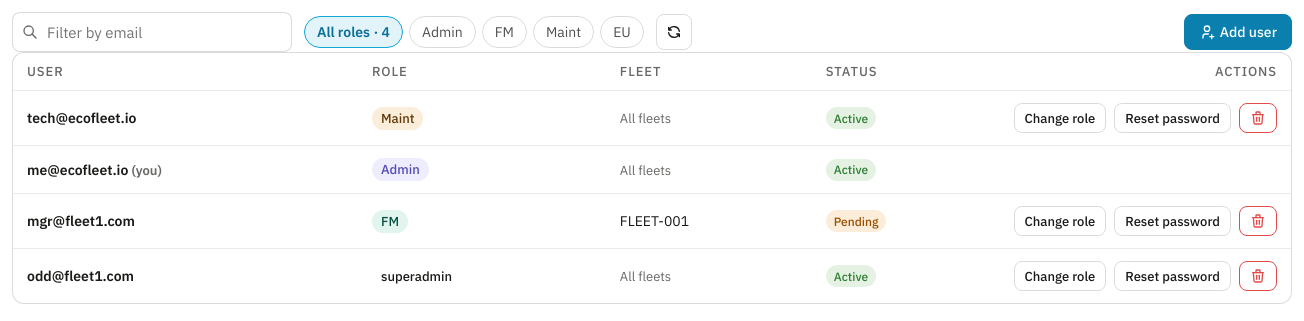
Test: UsersPage table › search narrows rows and role chips filter by role
Expected: the text "mgr@fleet1.com" is shown, [13,194,358,248]
Type "tech" into the search field labelled "Filter by email".
click(152, 32); type("tech")  # box [12,12,292,52]
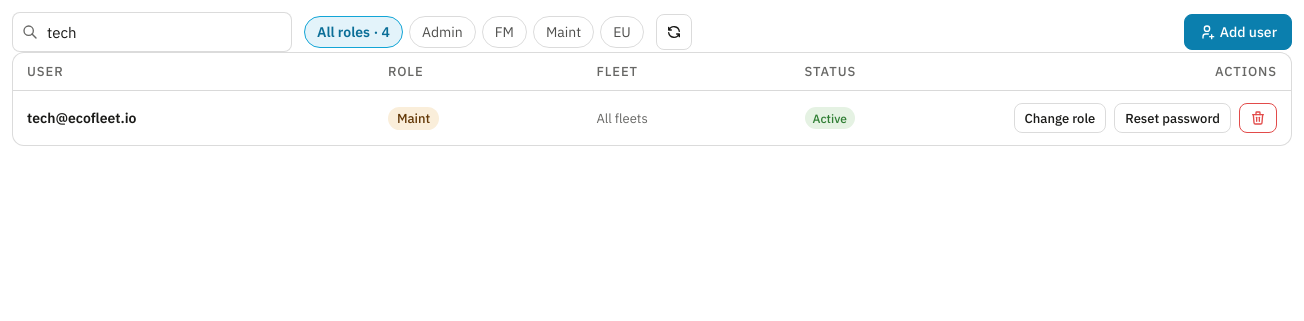
Expected: the text "tech@ecofleet.io" is shown, [13,90,374,145]
Result: the text "mgr@fleet1.com" is gone
Clear the search field named "Filter by email" at (152, 32), box [12,12,292,52]
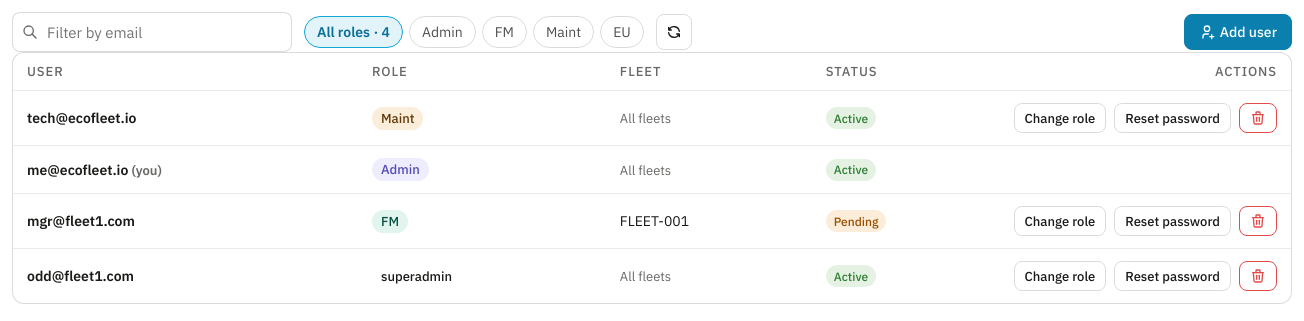
Click the button "FM".
click(504, 32)  # box [482,16,527,48]
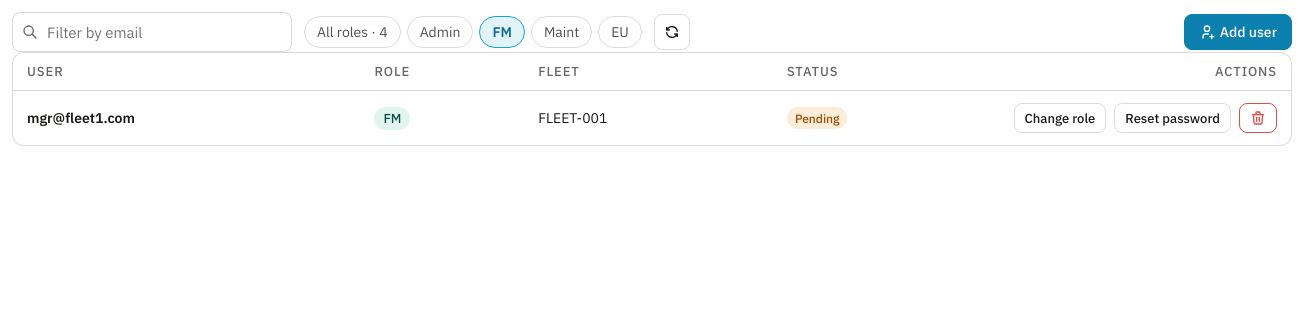
Result: the text "mgr@fleet1.com" is shown at [13,90,360,145]
Result: the text "tech@ecofleet.io" is gone
